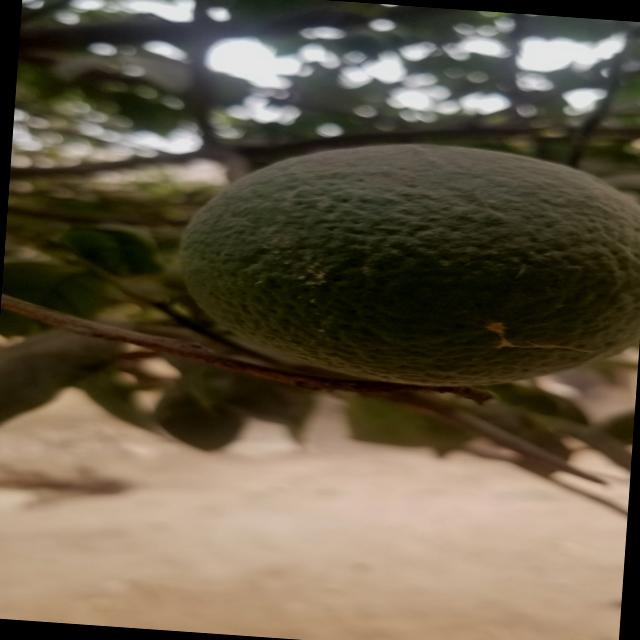agrume: (166, 126, 640, 401)
